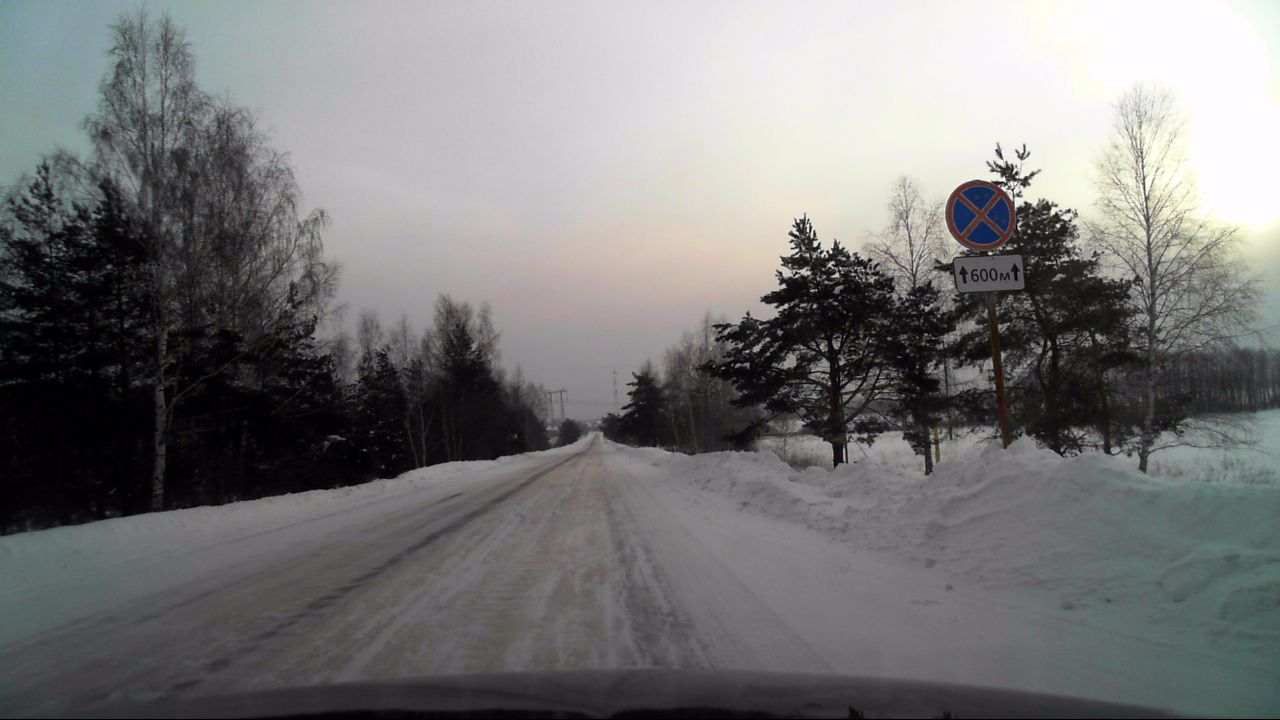No Parking: (944, 178, 1014, 250)
